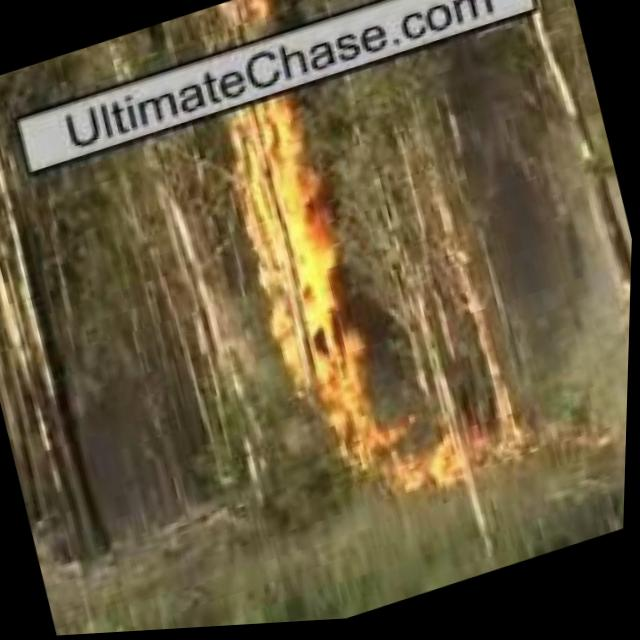Fire: (219, 91, 374, 403), (309, 344, 529, 525), (219, 0, 282, 34)
